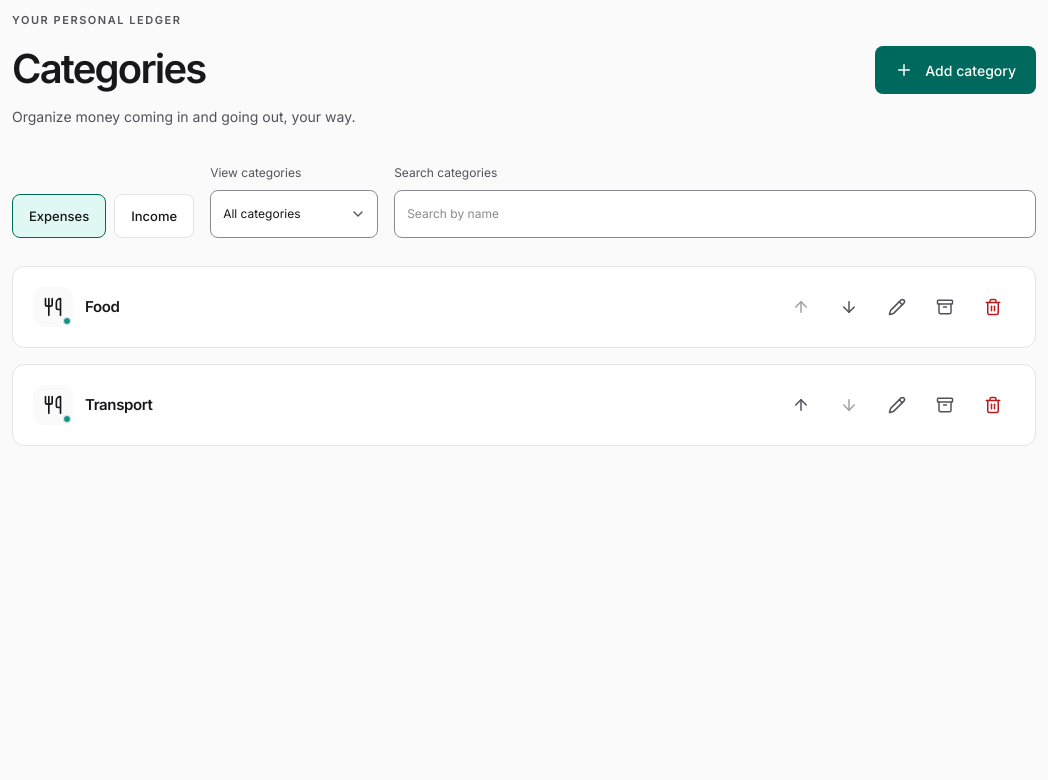
it: retries an unconfirmed network reorder inline with the same key and payload
The width and height of the screenshot is (1048, 780).
Expected: the element "Transport" is shown, [33,383,1015,427]
Click the button named "Move Transport up".
click(801, 405)  # box [779,383,823,427]
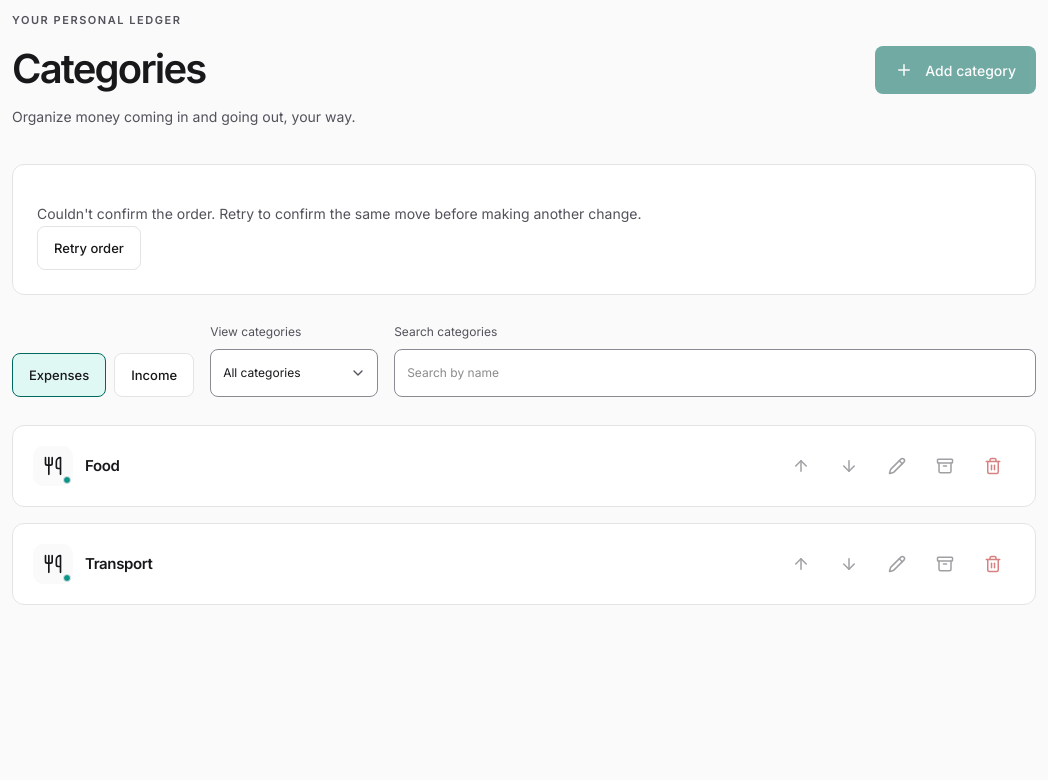
Result: the message shows "Couldn't confirm the order" at [37,205,642,222]
Result: the button "Add category" is disabled at [875,46,1036,94]
Result: the button named "Move Transport up" is disabled at [779,542,823,586]
Click the button "Retry order".
click(89, 248)  # box [37,226,141,270]
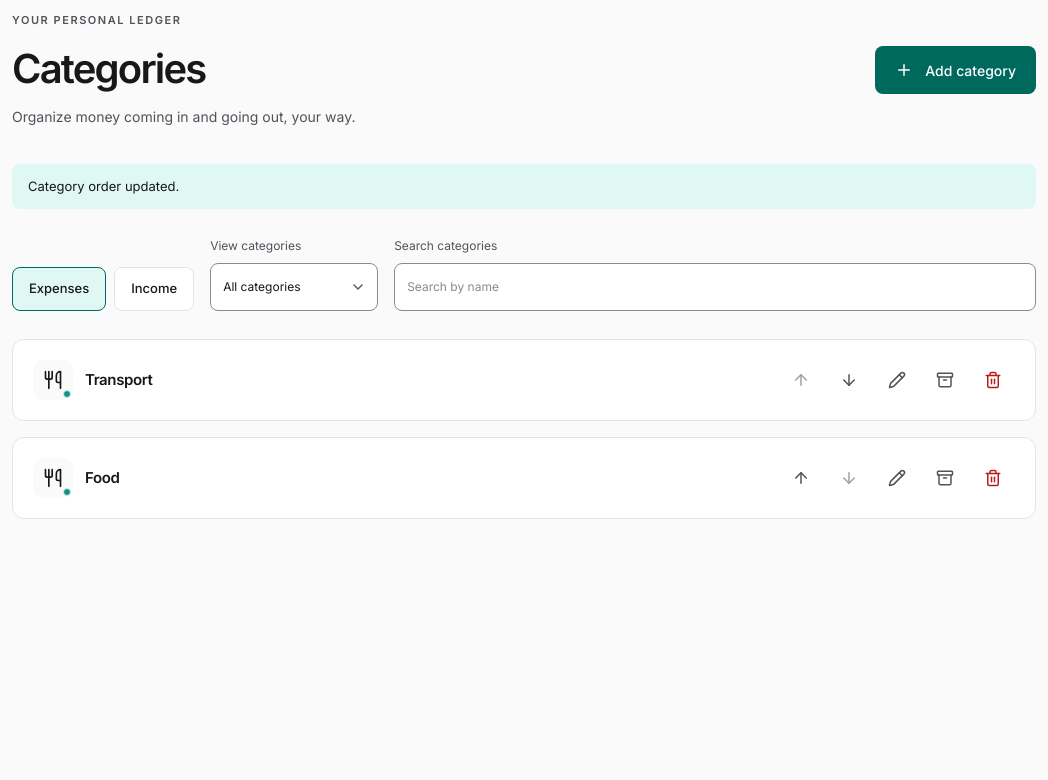
Result: the button "Add category" is enabled at [875,46,1036,94]
